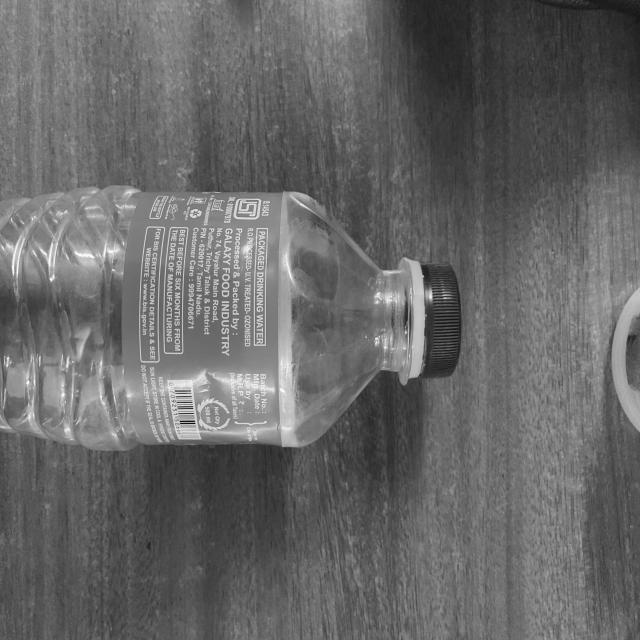Good-cap-Df0S: (398, 253, 464, 388)
